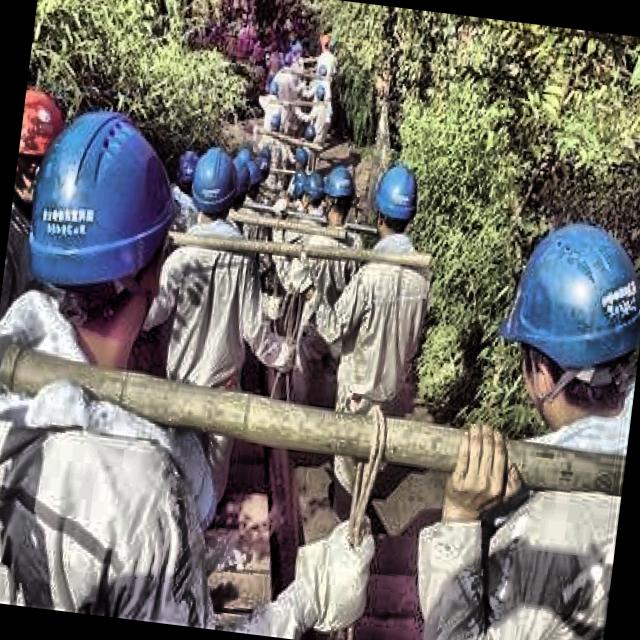helmet: (8, 86, 195, 358), (477, 196, 640, 448), (17, 83, 65, 182), (367, 156, 422, 242), (186, 142, 241, 220), (320, 158, 360, 226), (223, 154, 253, 208), (301, 166, 329, 216)
